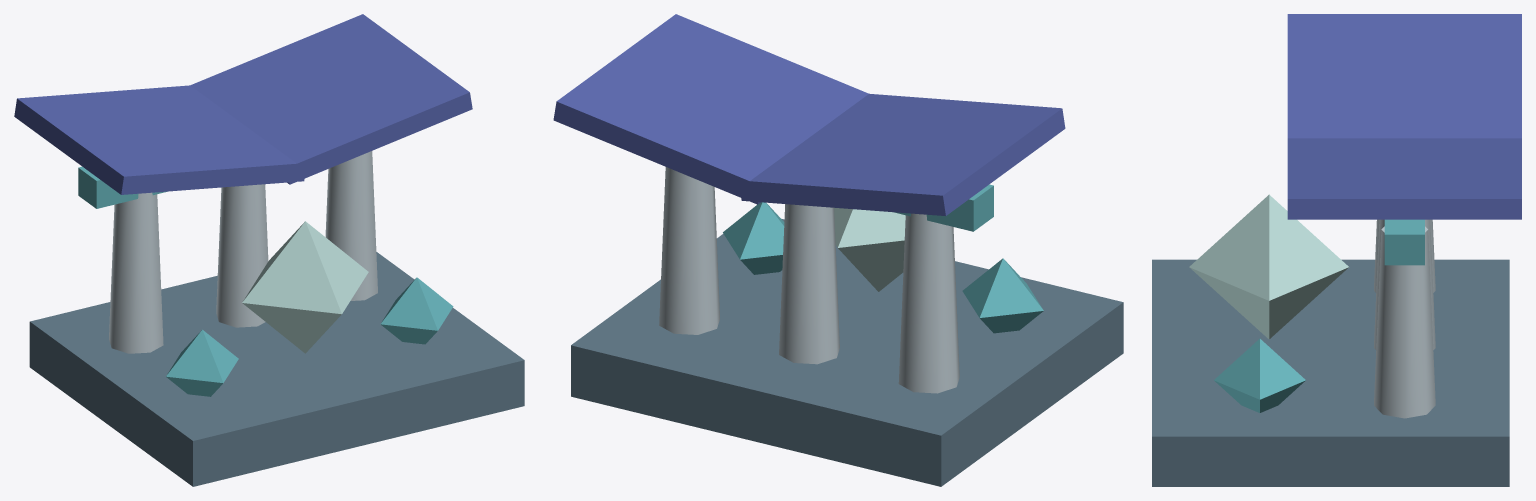
Rendered from aurora_shrine.glb.
3 renders of one model, left to right at view 1: azimuth 30°, elevation 25°; view 2: azimuth 150°, elevation 25°; view 3: azimuth 270°, elevation 25°, orthographic. The views are drawn at different scales.
Parts seen in each view (by area): view 1: foundation, roof_right, roof_left, aurora_crystal, pillar_-22, pillar_0, pillar_22, side_crystal_-22, side_crystal_22, crossbeam; view 2: foundation, roof_right, roof_left, pillar_-22, pillar_0, pillar_22, aurora_crystal, side_crystal_-22, side_crystal_22, crossbeam; view 3: foundation, roof_left, roof_right, aurora_crystal, pillar_22, side_crystal_22, crossbeam, pillar_0, pillar_-22.
Boxes of the visible parts, x1=… form: foundation: x1=29, y1=252, x2=524, y2=486; roof_right: x1=190, y1=14, x2=472, y2=184; roof_left: x1=14, y1=85, x2=306, y2=194; aurora_crystal: x1=242, y1=221, x2=368, y2=353; pillar_-22: x1=109, y1=192, x2=163, y2=353; pillar_0: x1=216, y1=184, x2=268, y2=327; pillar_22: x1=325, y1=151, x2=377, y2=300; side_crystal_-22: x1=166, y1=329, x2=238, y2=396; side_crystal_22: x1=380, y1=277, x2=453, y2=344; crossbeam: x1=78, y1=166, x2=166, y2=208; foundation: x1=571, y1=219, x2=1123, y2=486; roof_right: x1=553, y1=14, x2=868, y2=204; roof_left: x1=739, y1=93, x2=1065, y2=215; pillar_-22: x1=898, y1=213, x2=959, y2=393; pillar_0: x1=779, y1=204, x2=839, y2=364; pillar_22: x1=659, y1=167, x2=719, y2=334; aurora_crystal: x1=834, y1=207, x2=905, y2=291; side_crystal_-22: x1=962, y1=258, x2=1043, y2=333; side_crystal_22: x1=723, y1=202, x2=784, y2=274; crossbeam: x1=894, y1=184, x2=993, y2=231; foundation: x1=1152, y1=259, x2=1509, y2=486; roof_left: x1=1287, y1=14, x2=1521, y2=138; roof_right: x1=1287, y1=138, x2=1521, y2=219; aurora_crystal: x1=1189, y1=194, x2=1348, y2=339; pillar_22: x1=1374, y1=226, x2=1435, y2=418; side_crystal_22: x1=1214, y1=338, x2=1305, y2=412; crossbeam: x1=1384, y1=219, x2=1424, y2=265; pillar_0: x1=1374, y1=219, x2=1435, y2=350; pillar_-22: x1=1374, y1=219, x2=1435, y2=292.
Bounding box in the file's own units: 7.21 × 5.23 × 6.
